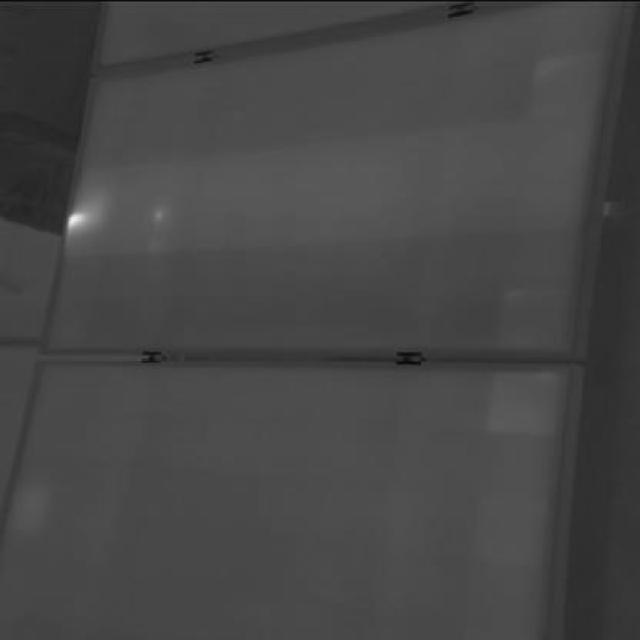hotspot: (63, 203, 100, 239)
